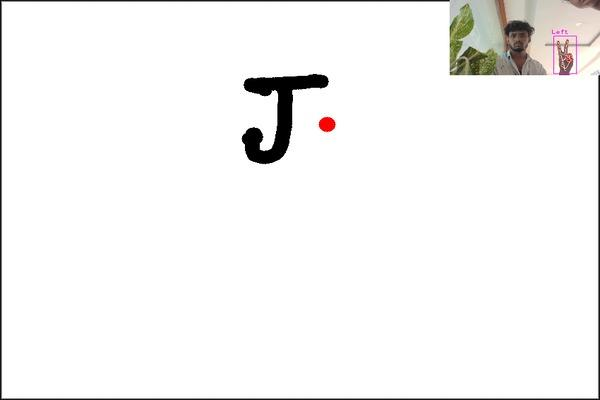J: (231, 66, 331, 164)
